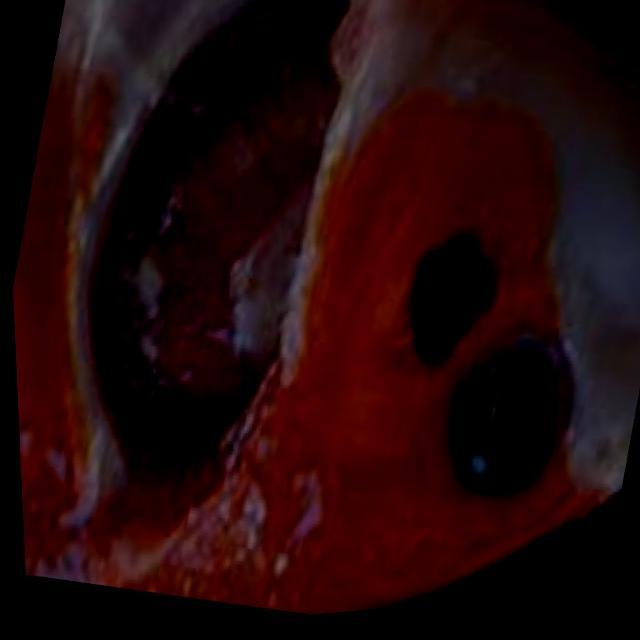Gill Disease: (21, 10, 597, 579)
